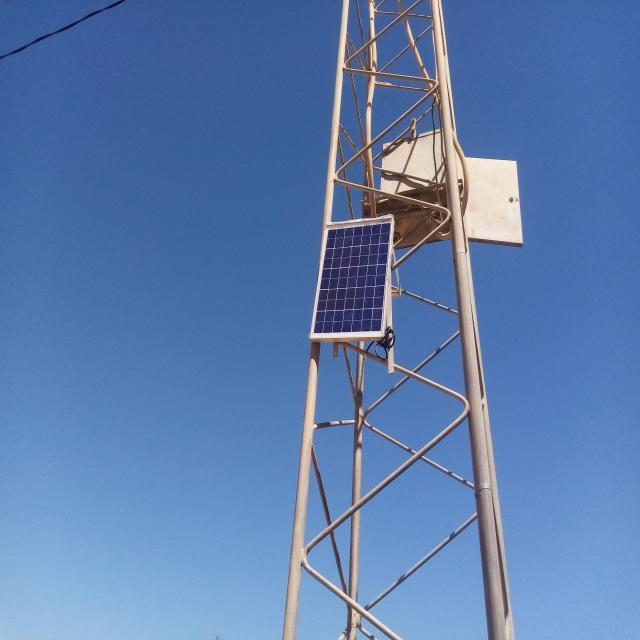no faulty: (310, 216, 392, 337)
